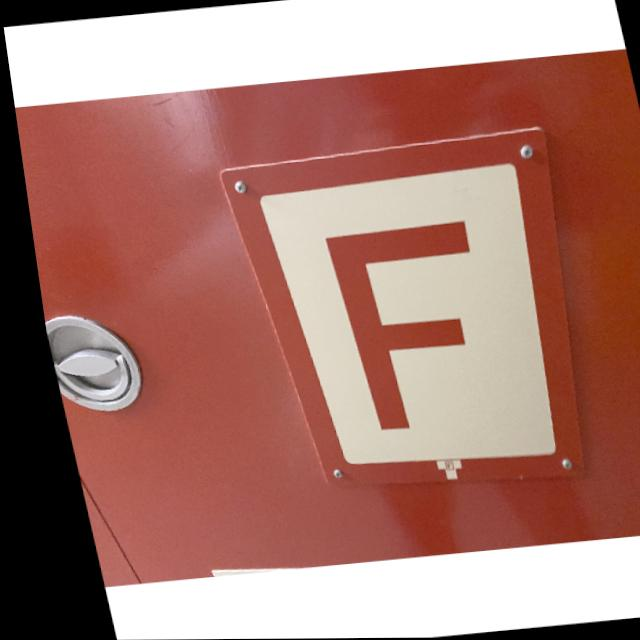fire extinguisher: (208, 127, 606, 502)
